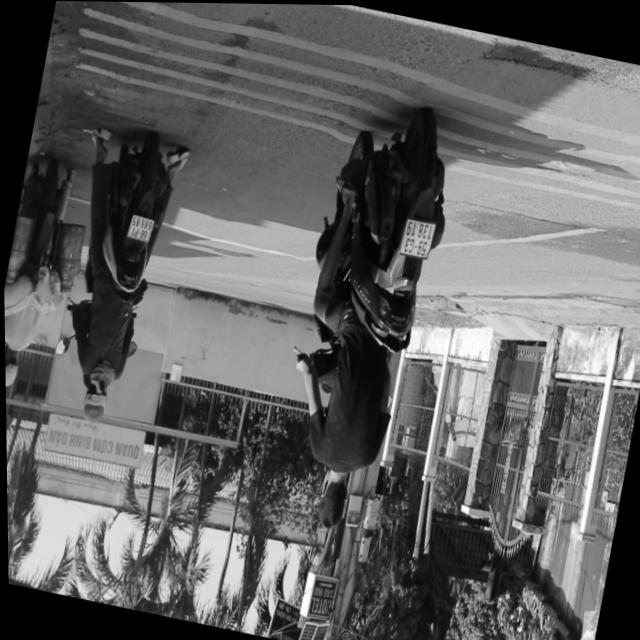helmet: (77, 381, 111, 430), (4, 350, 22, 391)
licenseplate: (258, 93, 469, 544), (42, 124, 190, 439), (2, 154, 78, 398)
motorcyclist: (310, 467, 353, 533)
nohelmet: (399, 219, 434, 260), (126, 216, 154, 244)
